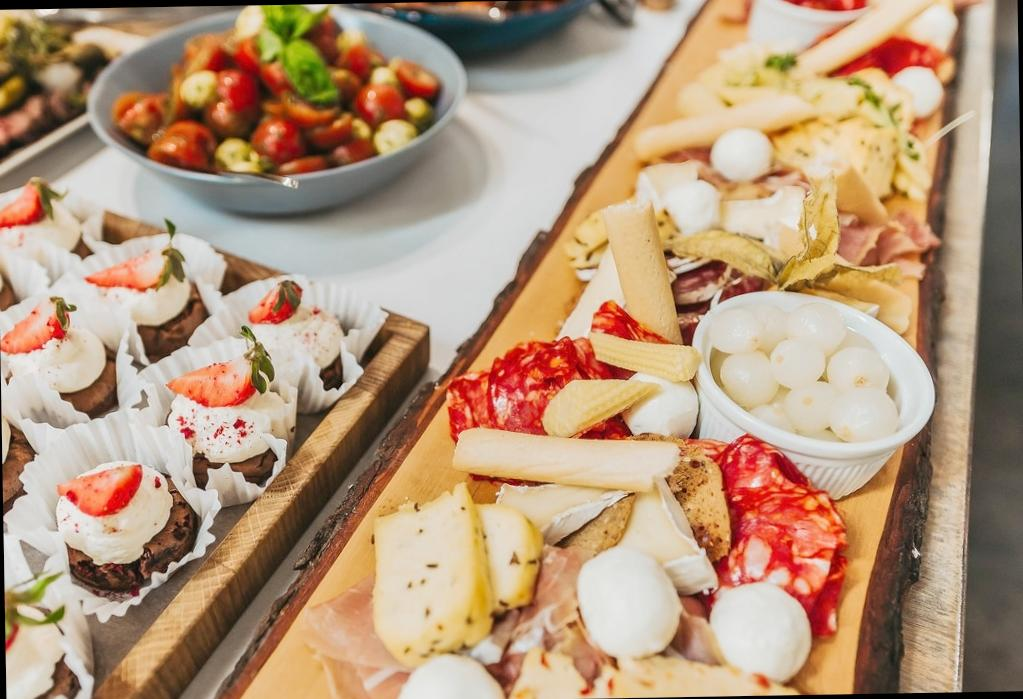reference_object: (698, 233, 936, 518)
